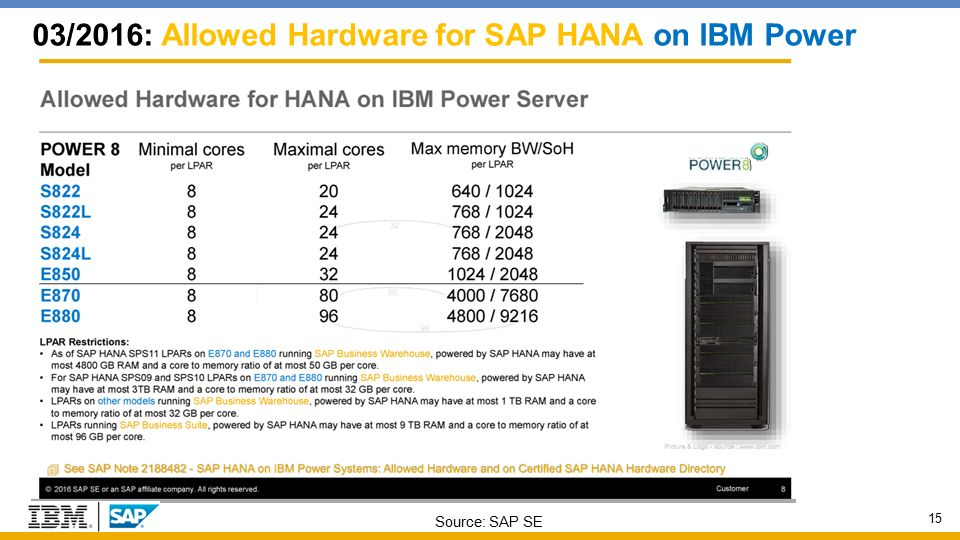ibm-server: (673, 230, 790, 447), (645, 180, 777, 221)
